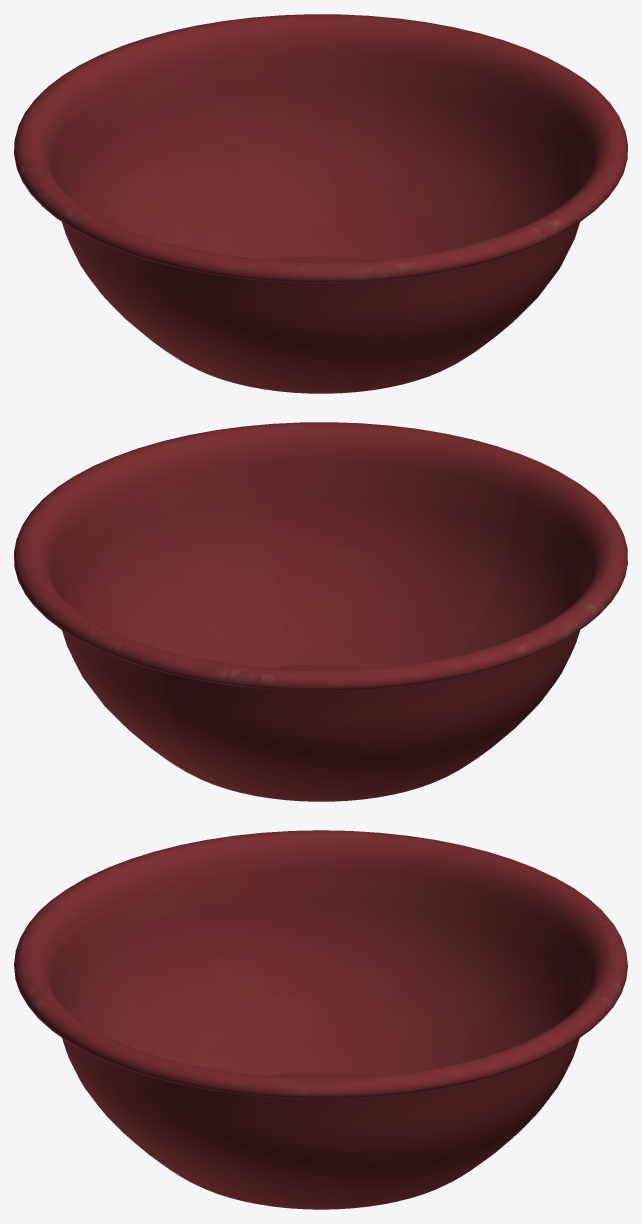
Rendered from dishware_bowl_a01.glb.
3 renders of one model, top to bottom at view 1: azimuth 30°, elevation 25°; view 2: azimuth 150°, elevation 25°; view 3: azimuth 270°, elevation 25°, orthographic.
Visible parts, largest first — view 1: part0; view 2: part0; view 3: part0.
Boxes of the visible parts, <box> form: part0: <box>14,14,627,393</box>; part0: <box>14,422,627,801</box>; part0: <box>14,830,627,1209</box>.
Size of the model in its own units: 0.1627 by 0.0548 by 0.1627.
1 material, 1 textured.
